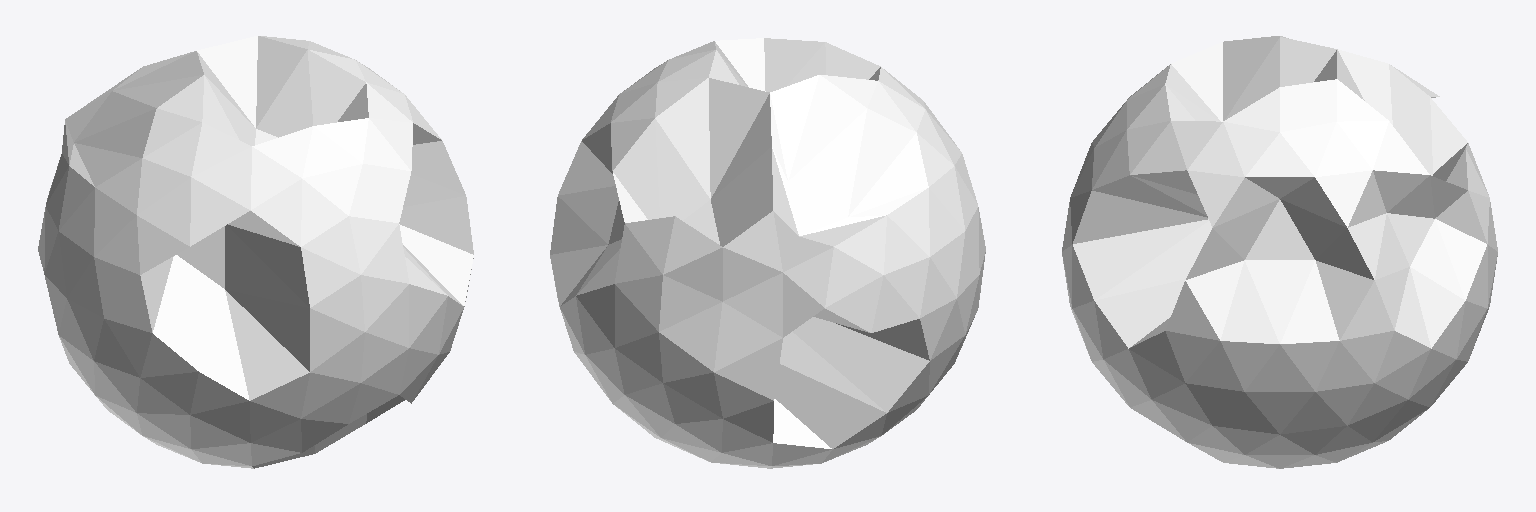
File: CraterTerrain.obj
3 views of the same model, side by side, from view 1: azimuth 30°, elevation 25°; view 2: azimuth 150°, elevation 25°; view 3: azimuth 270°, elevation 25° (orthographic).
Visible parts, largest first — view 1: CraterTerrain; view 2: CraterTerrain; view 3: CraterTerrain.
Boxes of the visible parts, box(x1,y1,x2,y2) form: CraterTerrain: box(38, 36, 473, 468); CraterTerrain: box(550, 38, 985, 468); CraterTerrain: box(1062, 36, 1497, 468).
Size of the model in its own units: 1 by 0.981 by 1.